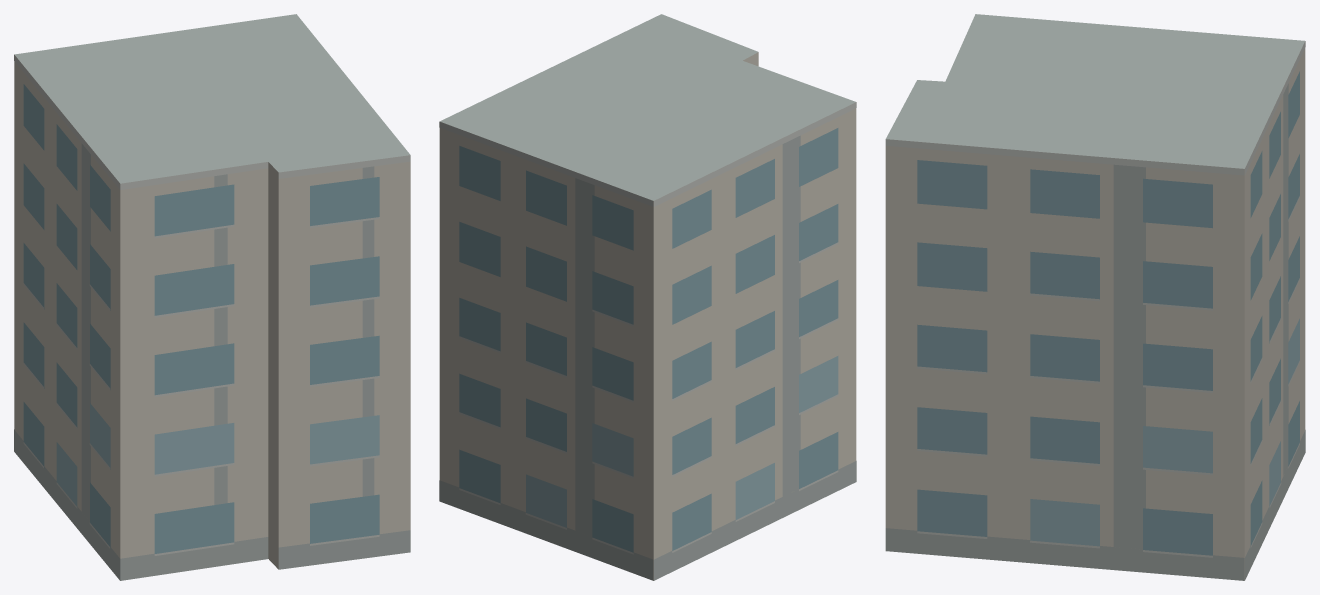
Rendered from survey-upis-32881839.glb.
3 views of the same model, side by side, from view 1: azimuth 30°, elevation 25°; view 2: azimuth 150°, elevation 25°; view 3: azimuth 270°, elevation 25° (orthographic). The views are drawn at different scales.
Visible parts, largest first — view 1: survey-upis-32881839.tmp; view 2: survey-upis-32881839.tmp; view 3: survey-upis-32881839.tmp.
Boxes of the visible parts, bbox=[...] form: survey-upis-32881839.tmp: bbox=[14, 14, 410, 580]; survey-upis-32881839.tmp: bbox=[439, 14, 856, 580]; survey-upis-32881839.tmp: bbox=[885, 14, 1305, 580].
Size of the model in its own units: 12.15 by 15.05 by 13.91.
